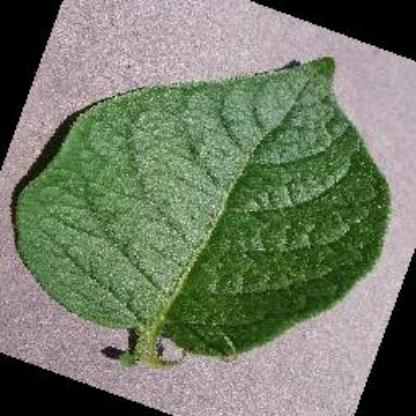Healthy-plant: (13, 56, 391, 364)
